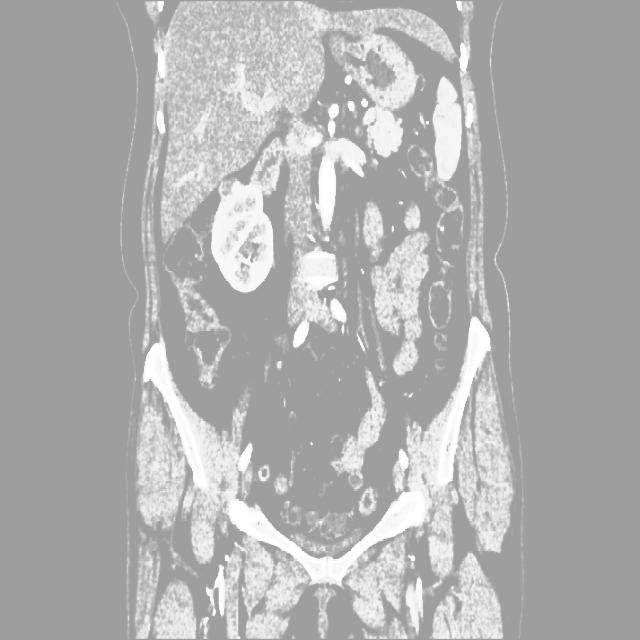TUMOR: (156, 154, 548, 389)
